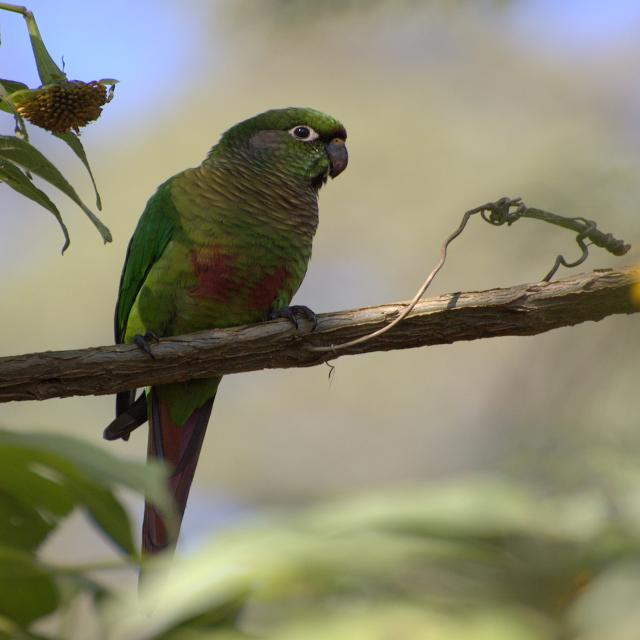bird: (108, 98, 350, 570)
